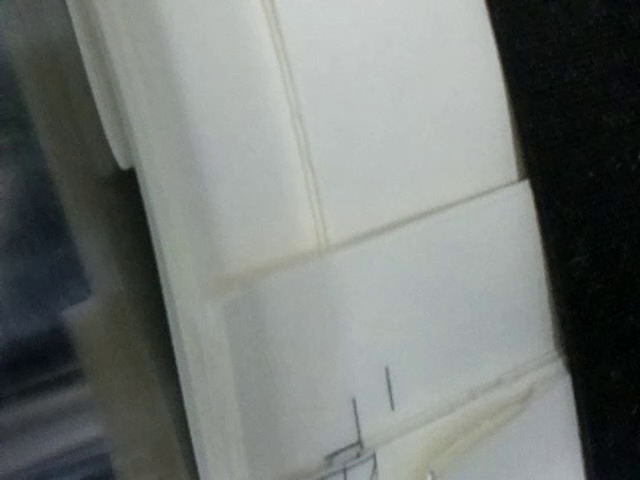misaligned: (280, 393, 380, 478)
